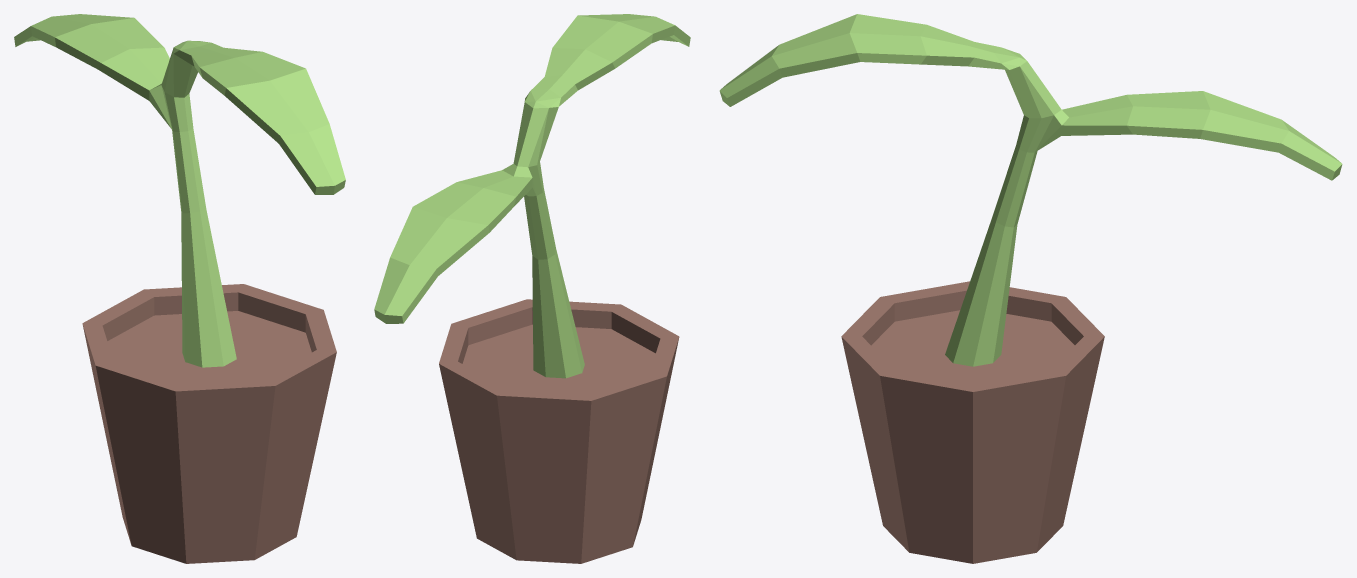
Rendered from Plant.glb.
The picture shows the model from 3 angles, left to right: view 1: azimuth 30°, elevation 25°; view 2: azimuth 150°, elevation 25°; view 3: azimuth 270°, elevation 25°; orthographic projection. The views are drawn at different scales.
Visible parts, largest first — view 1: DarkBrown.002, Green; view 2: DarkBrown.002, Green; view 3: DarkBrown.002, Green.
Boxes of the visible parts, <box> form: DarkBrown.002: <box>82,284,336,563</box>; Green: <box>14,14,345,367</box>; DarkBrown.002: <box>439,299,679,563</box>; Green: <box>374,14,690,378</box>; DarkBrown.002: <box>841,281,1104,563</box>; Green: <box>719,14,1342,366</box>.
Bounding box in the file's own units: 0.1469 × 0.3028 × 0.3474.
